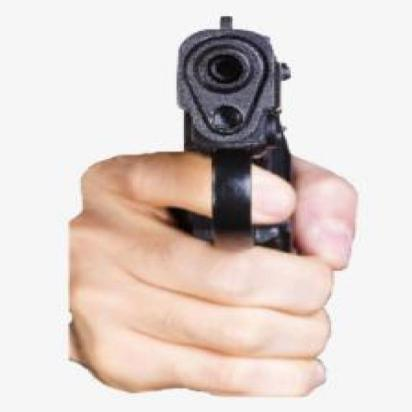Gun: (146, 7, 336, 408)
